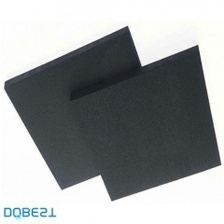foam_box: (0, 21, 178, 193), (64, 41, 224, 205)
